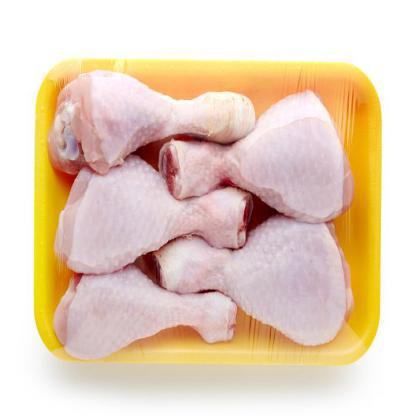chicken: (41, 52, 254, 156), (162, 108, 352, 221), (43, 266, 246, 370), (52, 160, 247, 266), (165, 234, 357, 341)
